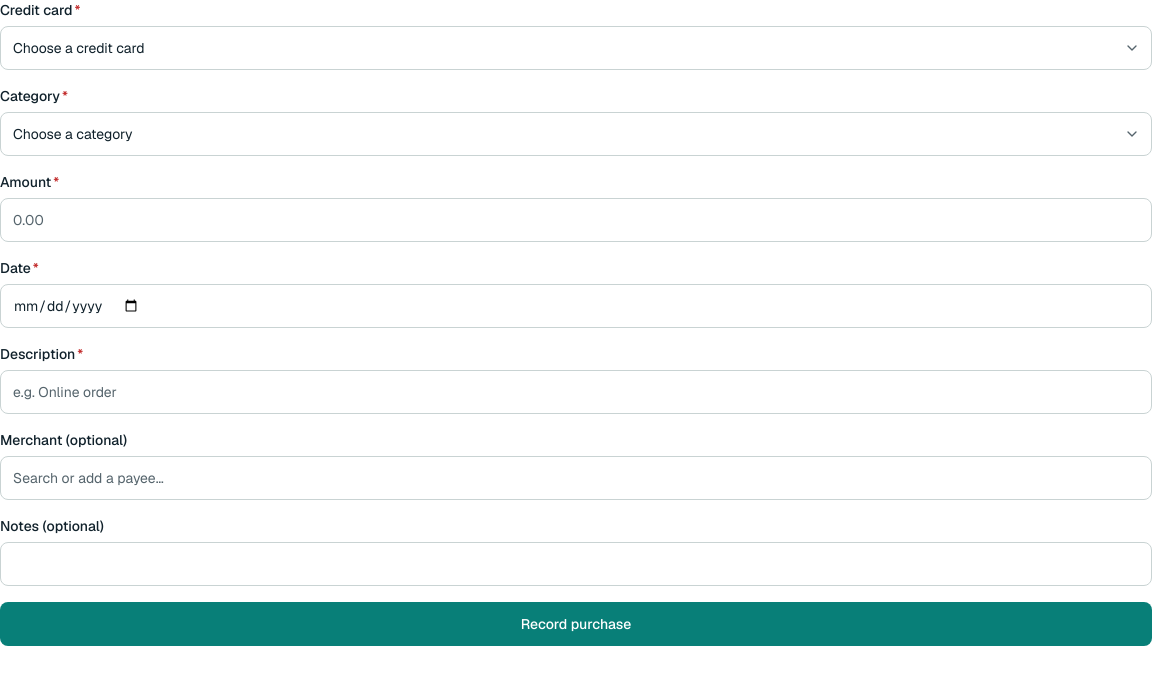
Test: CreditCardPurchaseForm › shows a field error returned by the Server Action
Click the button "Record purchase" at (576, 624), box [0,602,1151,646]
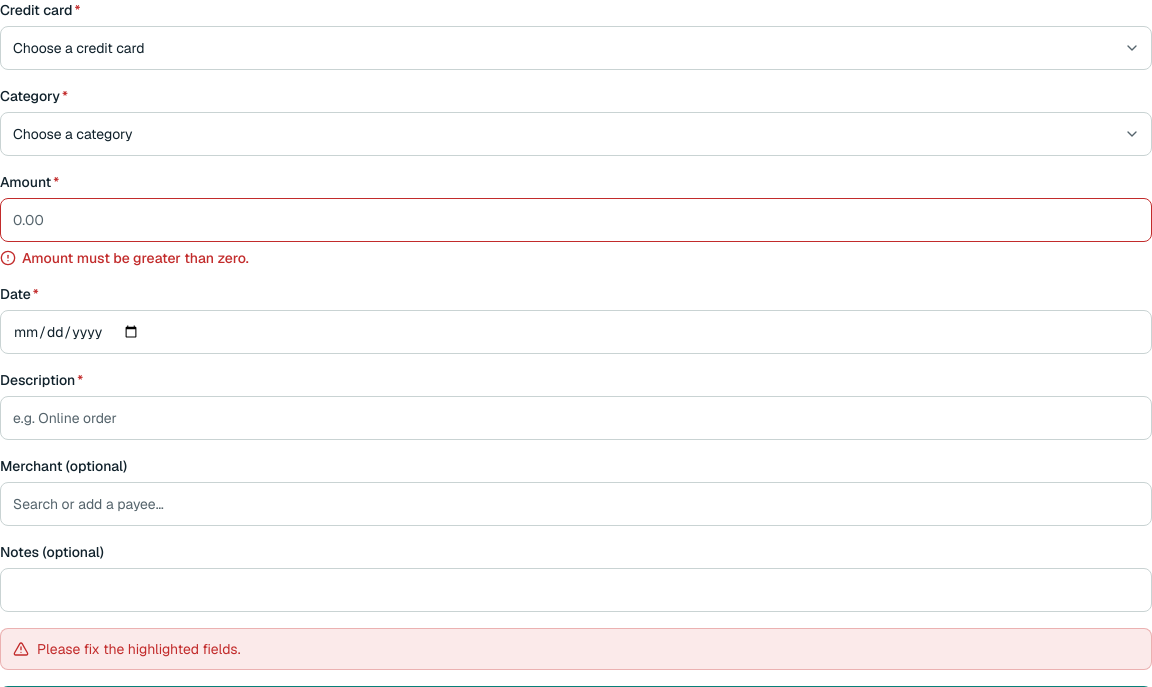
Check: the text "Amount must be greater than zero." is shown, box [0,249,249,267]
